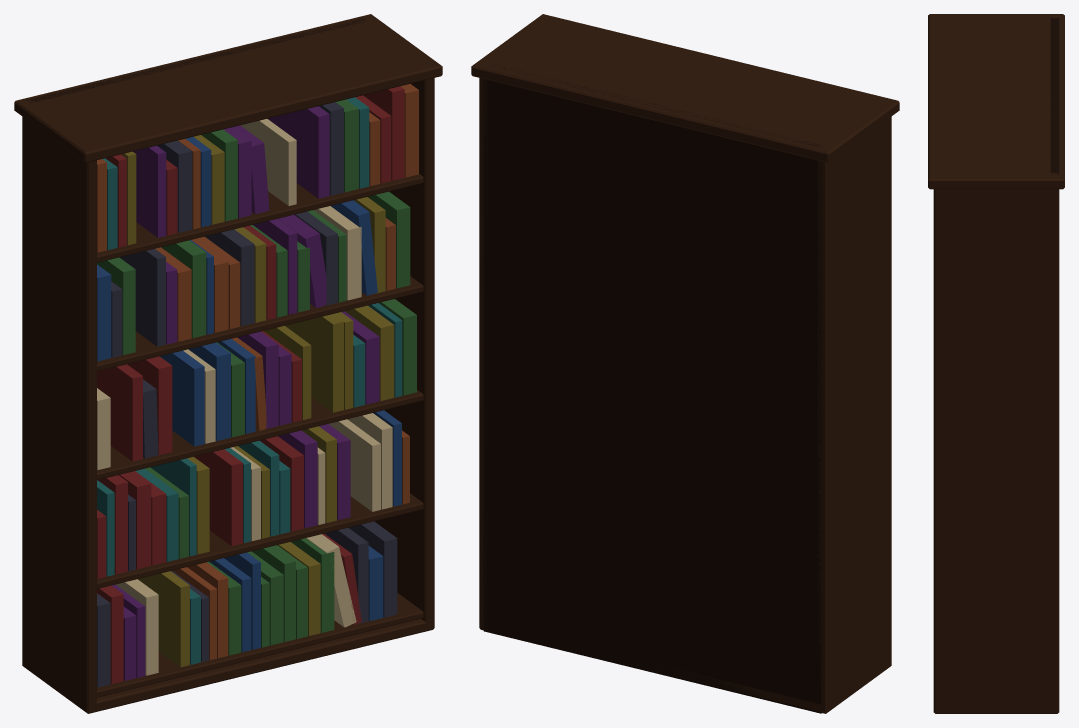
The model's file is estante_livros.glb.
3 renders of one model, left to right at view 1: azimuth 30°, elevation 25°; view 2: azimuth 150°, elevation 25°; view 3: azimuth 270°, elevation 25°, orthographic. The views are drawn at different scales.
Visible parts, largest first — view 1: Cube; view 2: Cube; view 3: Cube.
Boxes of the visible parts, left/top/right/bottom form: Cube: left=14, top=14, right=442, bottom=713; Cube: left=471, top=14, right=899, bottom=713; Cube: left=928, top=14, right=1064, bottom=713.
Size of the model in its own units: 1.38 by 2.08 by 0.48.
